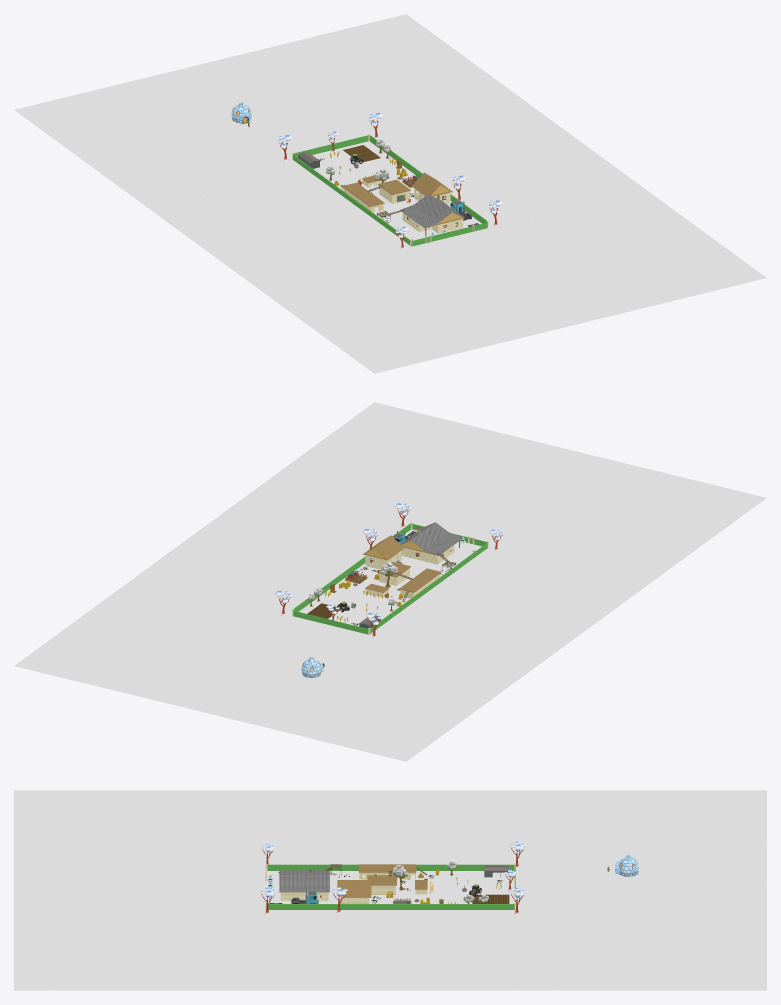
Rendered from chicken_gun_chalohousesnow.glb.
3 views of the same model, one above another, from view 1: azimuth 30°, elevation 25°; view 2: azimuth 150°, elevation 25°; view 3: azimuth 270°, elevation 25° (orthographic). The views are drawn at different scales.
Parts seen in each view (by area): view 1: Object_11, Object_22, Object_15, Object_25, Object_23, Object_26, Object_17; view 2: Object_11, Object_22, Object_25, Object_15, Object_23, Object_26, Object_17; view 3: Object_11, Object_22, Object_15, Object_23, Object_25, Object_26, Object_17, Object_29, Object_5, Object_18.
Boxes of the visible parts, left/top/right/bottom form: Object_11: left=14, top=14, right=766, bottom=373; Object_22: left=292, top=135, right=488, bottom=246; Object_15: left=342, top=172, right=463, bottom=227; Object_25: left=291, top=134, right=488, bottom=246; Object_23: left=400, top=194, right=465, bottom=228; Object_26: left=277, top=113, right=502, bottom=235; Object_17: left=298, top=149, right=414, bottom=239; Object_11: left=14, top=402, right=766, bottom=761; Object_22: left=292, top=523, right=488, bottom=634; Object_25: left=292, top=522, right=488, bottom=634; Object_15: left=362, top=535, right=441, bottom=592; Object_23: left=396, top=522, right=462, bottom=563; Object_26: left=275, top=503, right=465, bottom=637; Object_17: left=310, top=550, right=475, bottom=628; Object_11: left=14, top=790, right=766, bottom=990; Object_22: left=267, top=864, right=515, bottom=909; Object_15: left=337, top=864, right=427, bottom=897; Object_23: left=279, top=870, right=329, bottom=892; Object_25: left=265, top=863, right=515, bottom=909; Object_26: left=259, top=841, right=525, bottom=914; Object_17: left=278, top=865, right=509, bottom=903; Object_29: left=393, top=861, right=488, bottom=903; Object_5: left=615, top=855, right=638, bottom=876; Object_18: left=393, top=873, right=509, bottom=903.
Bounding box in the file's own units: 644 × 51.65 × 1024.
Materials: 25 (25 with a texture image).
